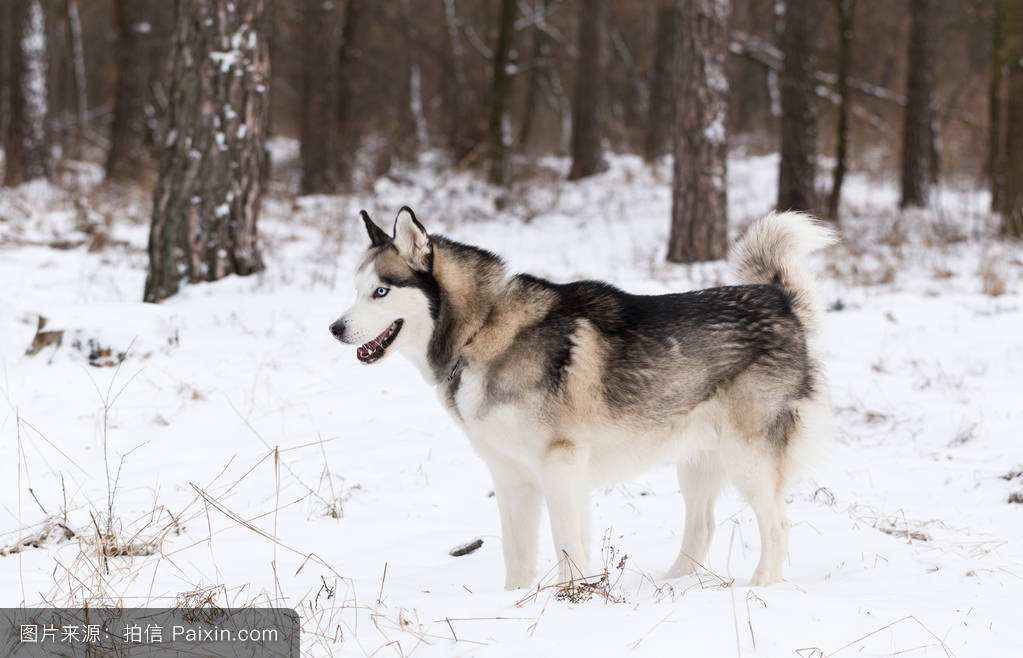dog: (329, 206, 824, 598)
